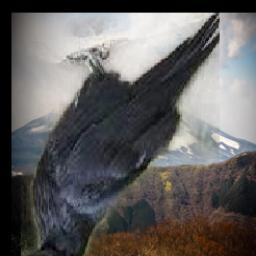Crow: (22, 13, 221, 256)
